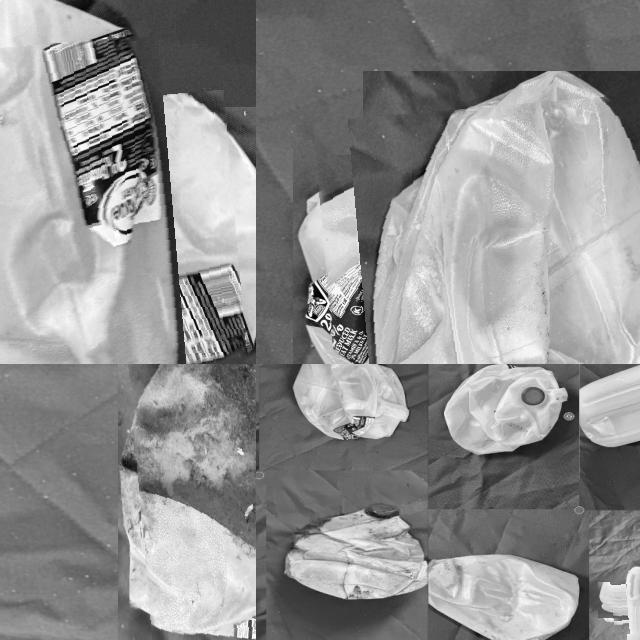milk-jug: (319, 97, 640, 364), (0, 37, 244, 364), (130, 364, 256, 640), (435, 541, 577, 640), (290, 505, 430, 595), (440, 364, 568, 454), (293, 364, 407, 448), (583, 364, 640, 452), (610, 566, 640, 633)
